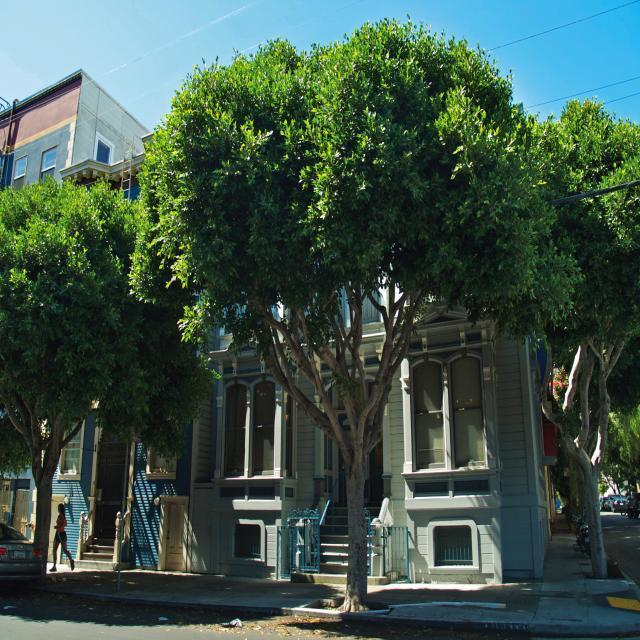tree: (119, 12, 584, 625), (0, 173, 216, 589), (479, 92, 639, 580), (602, 384, 640, 521)
